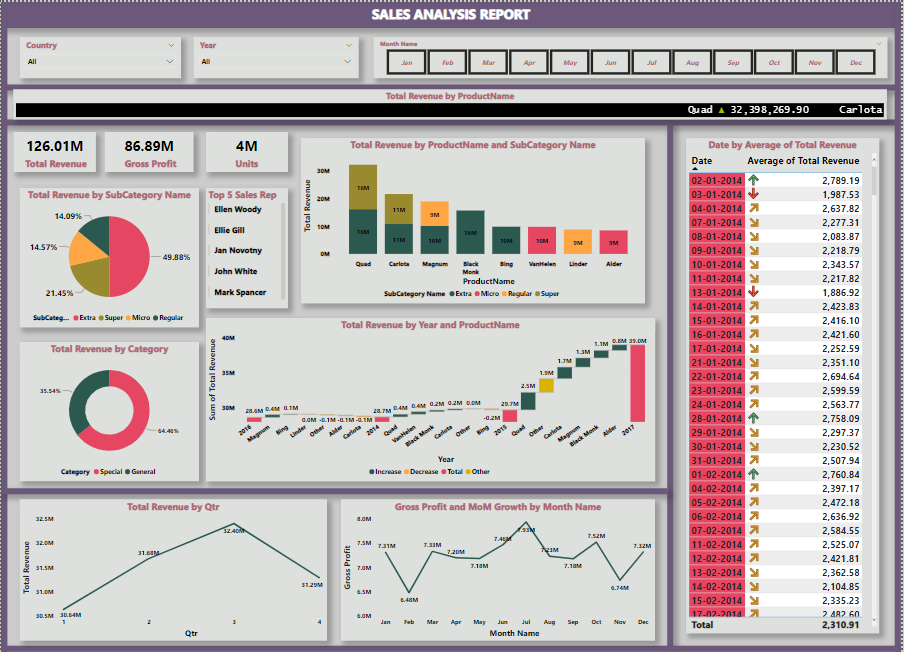

The page's visual inventory and layout, read from the dashboard file:
{"tool":"powerbi","page":{"name":"Page 1","canvas":[1800,1300],"ordinal":0},"visuals":[{"type":"textbox","box":[0,0,1800,52],"z":0},{"type":"slicer","fields":{"Values":["Geography.Country"]},"box":[38,70,322,82],"z":1000},{"type":"slicer","fields":{"Values":["DateMaster.Year"]},"box":[384,70,330,82],"z":2000},{"type":"slicer","fields":{"Values":["DateMaster.Month Name"]},"box":[744,70,1028,82],"z":3000},{"type":"shape","box":[0,164,1788,12],"z":4000},{"type":"shape","box":[0,236,1794,12],"z":5000},{"type":"card","fields":{"Values":["Sales.Total Revenue"]},"box":[25.8,259.8,165,80.4],"z":6000},{"type":"card","fields":{"Values":["Sales.Gross Profit"]},"box":[206.7,259.8,178,80.4],"z":7000},{"type":"card","fields":{"Values":["Sales.Units"]},"box":[409,259.8,163.6,80.4],"z":8000},{"type":"shape","box":[1788,0,12,1300],"z":9000},{"type":"shape","box":[1332,242,12,1052],"z":10000},{"type":"shape","box":[0,0,12.9,1300.3],"z":11000},{"type":"pieChart","title":"Total Revenue by SubCategory Name","fields":{"Y":["Sales.Total Revenue"],"Category":["SubCategory.SubCategory Name"]},"box":[37.3,371.7,358.8,278.4],"z":12000},{"type":"donutChart","title":"Total Revenue by Category","fields":{"Y":["Sales.Total Revenue"],"Category":["Categories.Category"]},"box":[37.3,678.8,358.8,278.4],"z":13000},{"type":"multiRowCard","title":"Top 5 Sales Rep","fields":{"Values":["Sales rep.Sales Rep Name"]},"box":[409,371.7,163.6,239.7],"z":14000},{"type":"ScrollingTextVisual1448795304508","title":"Total Revenue by ProductName","fields":{"Category":["ProductDetails.ProductName"],"Measure Deviation":["Sales.Total Revenue"]},"box":[26,176,1746,60],"z":15000},{"type":"waterfallChart","title":" Total Revenue by Year and ProductName","fields":{"Category":["DateMaster.Year"],"Breakdown":["ProductDetails.ProductName"],"Y":["Sales.Total Revenue"]},"box":[410,632,898,326],"z":16000},{"type":"columnChart","fields":{"Category":["ProductDetails.ProductName"],"Y":["Sales.Total Revenue"],"Series":["SubCategory.SubCategory Name"]},"box":[600,272,688,330],"z":17000},{"type":"shape","box":[0,972,1332,12],"z":18000},{"type":"shape","box":[0,1288,1800,12],"z":19000},{"type":"lineChart","fields":{"Category":["DateMaster.Qtr"],"Y":["Sales.Total Revenue"]},"box":[38,996,614,282],"z":20000},{"type":"lineChart","fields":{"Category":["DateMaster.Month Name"],"Y":["Sales.Gross Profit"]},"box":[680,996,628,282],"z":21000},{"type":"tableEx","title":"Date by Average of Total Revenue","fields":{"Values":["DateMaster.Date","Sales.Total Revenue"]},"box":[1370,272,386,990],"z":22000}]}

Visuals, with their boxes in screenshot pixels (x1, y1, x2, y2), scaled from the page's 1800x1300 canvas onto the 904x652 screenshot:
textbox: {"x1": 0, "y1": 0, "x2": 903, "y2": 26}
slicer - Geography.Country: {"x1": 19, "y1": 35, "x2": 181, "y2": 76}
slicer - DateMaster.Year: {"x1": 193, "y1": 35, "x2": 359, "y2": 76}
slicer - DateMaster.Month Name: {"x1": 374, "y1": 35, "x2": 890, "y2": 76}
shape: {"x1": 0, "y1": 82, "x2": 898, "y2": 88}
shape: {"x1": 0, "y1": 118, "x2": 901, "y2": 124}
card - Sales.Total Revenue: {"x1": 13, "y1": 130, "x2": 96, "y2": 171}
card - Sales.Gross Profit: {"x1": 104, "y1": 130, "x2": 193, "y2": 171}
card - Sales.Units: {"x1": 205, "y1": 130, "x2": 288, "y2": 171}
shape: {"x1": 898, "y1": 0, "x2": 903, "y2": 651}
shape: {"x1": 669, "y1": 121, "x2": 675, "y2": 649}
shape: {"x1": 0, "y1": 0, "x2": 6, "y2": 651}
"Total Revenue by SubCategory Name" pieChart: {"x1": 19, "y1": 186, "x2": 199, "y2": 326}
"Total Revenue by Category" donutChart: {"x1": 19, "y1": 340, "x2": 199, "y2": 480}
"Top 5 Sales Rep" multiRowCard: {"x1": 205, "y1": 186, "x2": 288, "y2": 307}
"Total Revenue by ProductName" ScrollingTextVisual1448795304508: {"x1": 13, "y1": 88, "x2": 890, "y2": 118}
" Total Revenue by Year and ProductName" waterfallChart: {"x1": 206, "y1": 317, "x2": 657, "y2": 480}
columnChart - ProductDetails.ProductName x Sales.Total Revenue: {"x1": 301, "y1": 136, "x2": 647, "y2": 302}
shape: {"x1": 0, "y1": 487, "x2": 669, "y2": 494}
shape: {"x1": 0, "y1": 646, "x2": 903, "y2": 651}
lineChart - DateMaster.Qtr x Sales.Total Revenue: {"x1": 19, "y1": 500, "x2": 327, "y2": 641}
lineChart - DateMaster.Month Name x Sales.Gross Profit: {"x1": 342, "y1": 500, "x2": 657, "y2": 641}
"Date by Average of Total Revenue" tableEx: {"x1": 688, "y1": 136, "x2": 882, "y2": 633}
